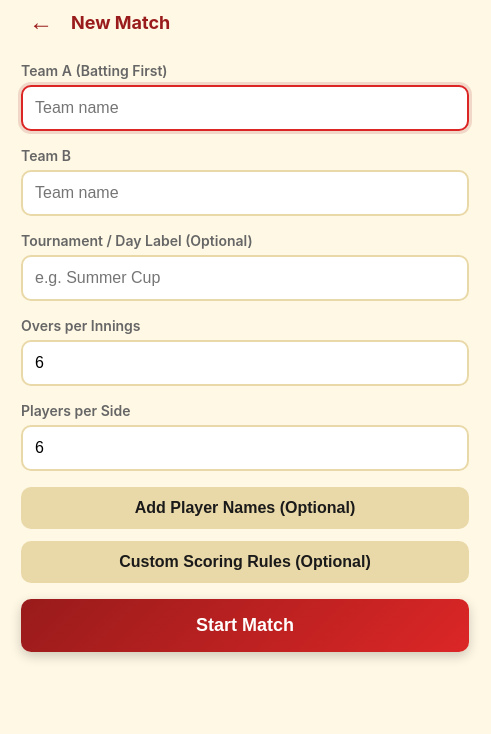
Test case: NewMatch - form basics › toggle player names shows and hides inputs
This screenshot has width=491, height=734.
Click the button "Add Player Names (Optional)" at {"x": 245, "y": 508}, box [21, 487, 469, 529]
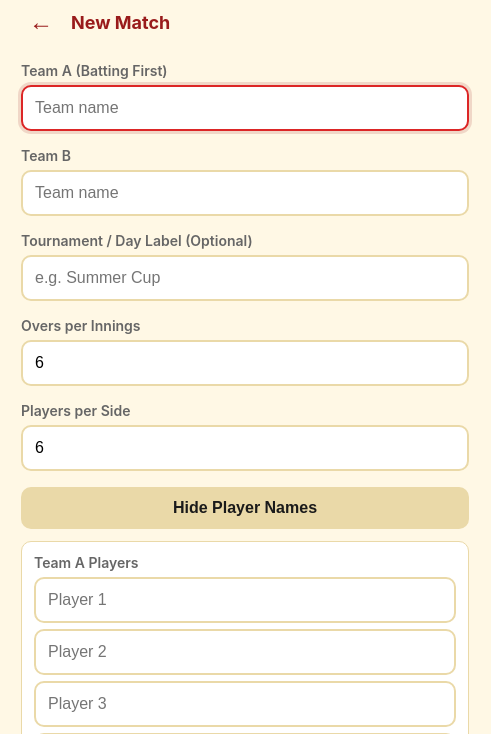
Check: the button "Hide Player Names" is shown, box [21, 487, 469, 529]
Check: the number of fields with placeholder "Player 1" is 12
